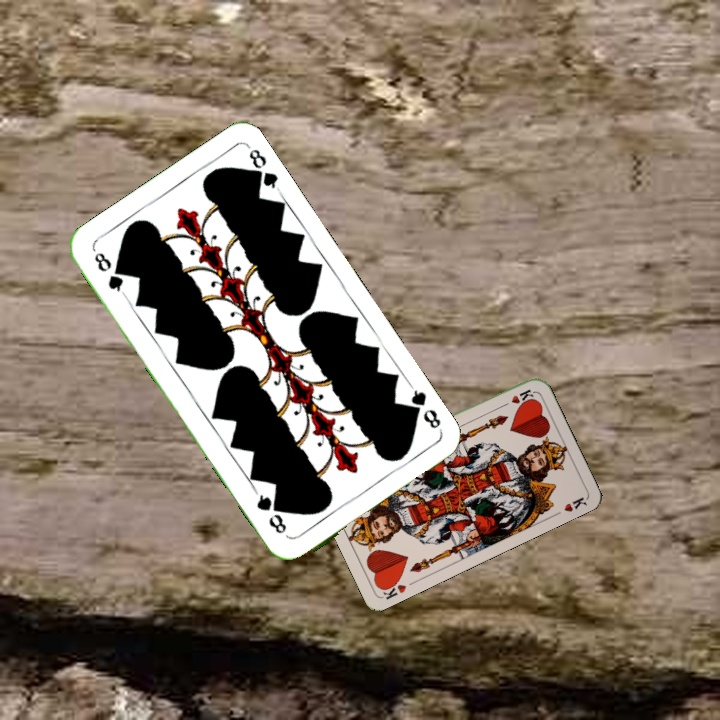G8: (402, 382, 444, 432), (90, 248, 128, 298)
HK: (497, 385, 536, 410), (376, 576, 409, 602)
